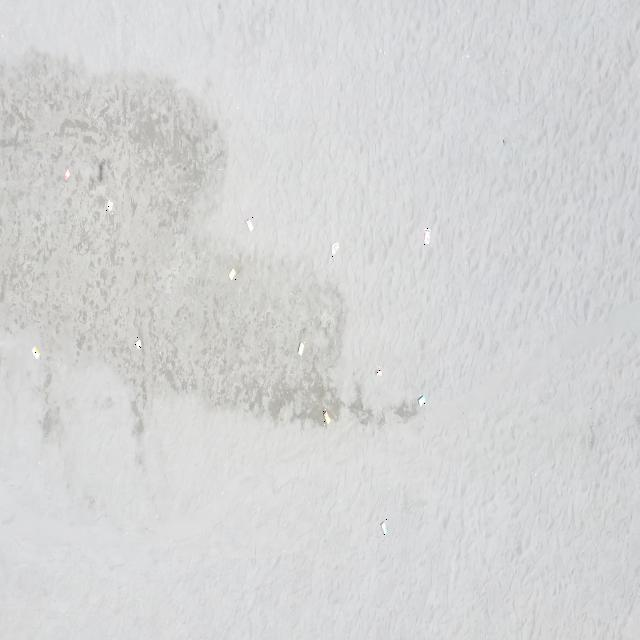Garbage: (323, 409, 332, 424), (380, 517, 387, 535), (227, 267, 236, 280), (331, 242, 339, 256), (245, 216, 252, 231), (32, 346, 40, 359), (424, 227, 430, 244), (104, 200, 112, 212), (64, 167, 70, 180), (135, 336, 140, 348), (417, 396, 424, 404), (299, 342, 303, 355), (375, 368, 380, 375)
